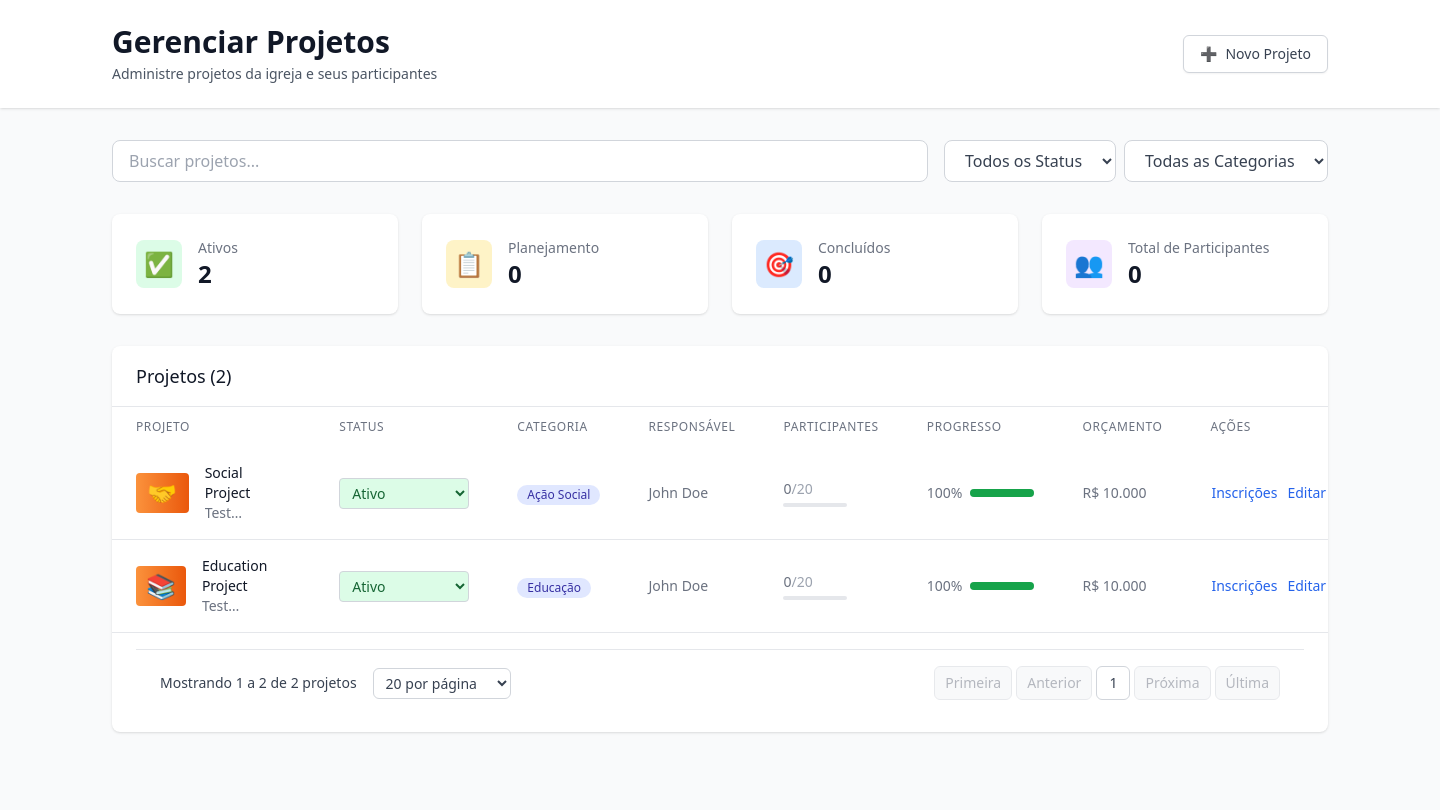
Test case: AdminProjectsManagementPage › Filtering › should filter projects by category
Expected: the text "Social Project" is shown, top-left (205, 463), bottom-right (250, 502)
Expected: the text "Education Project" is shown, top-left (202, 556), bottom-right (267, 595)
Filter by education category
Select "Educação" in the 2nd dropdown at x=1226, y=161, box top-left (1124, 140), bottom-right (1328, 182)
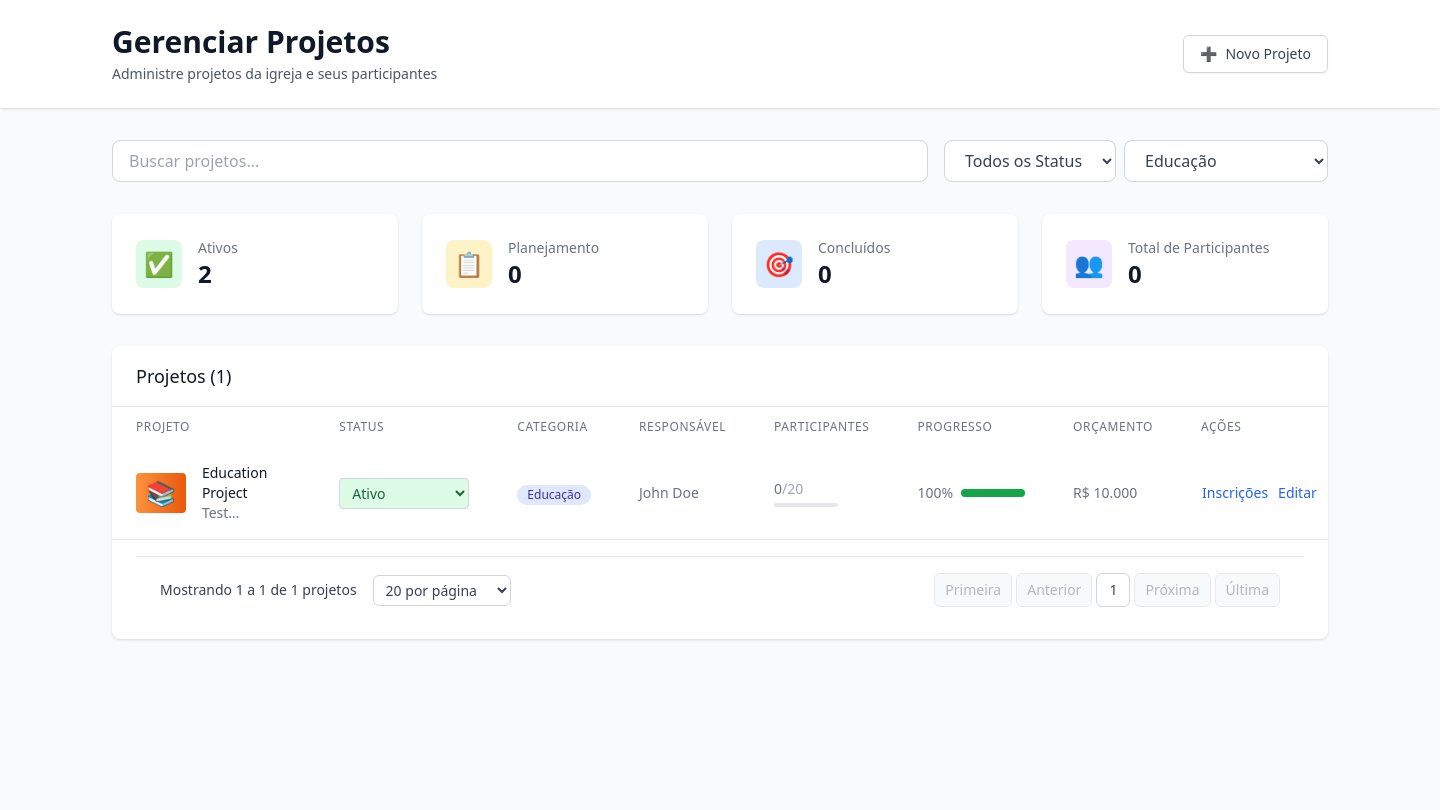
Expected: the text "Education Project" is shown, top-left (202, 463), bottom-right (267, 502)
Expected: the text "Social Project" is gone
